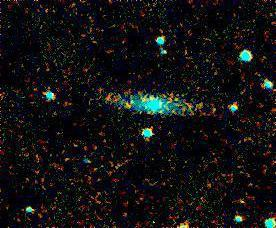star: (225, 185, 255, 215)
